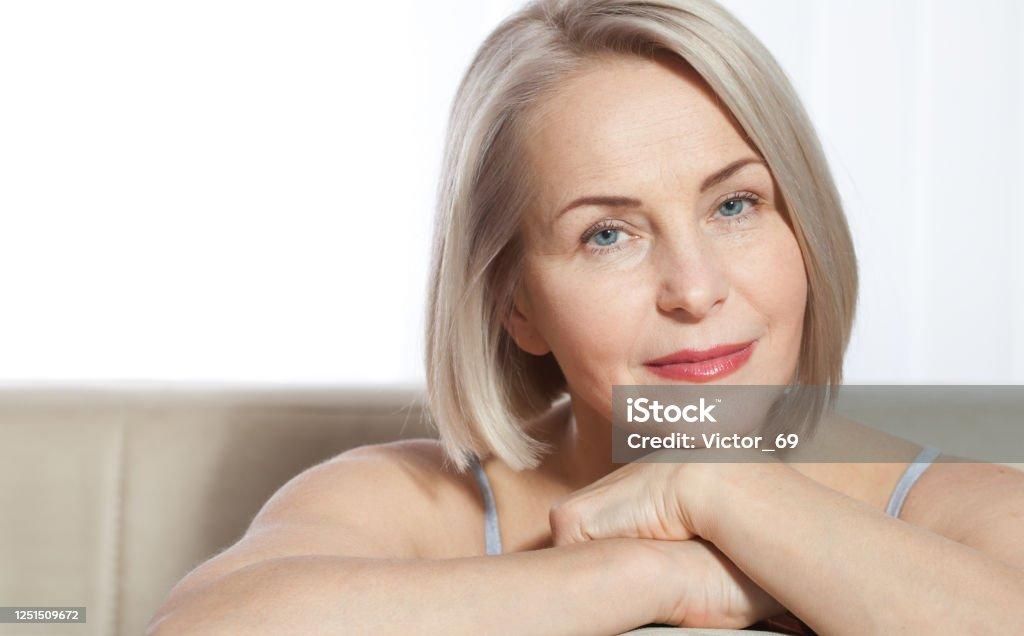Dry-Skin: (545, 85, 713, 208), (725, 243, 812, 333)
